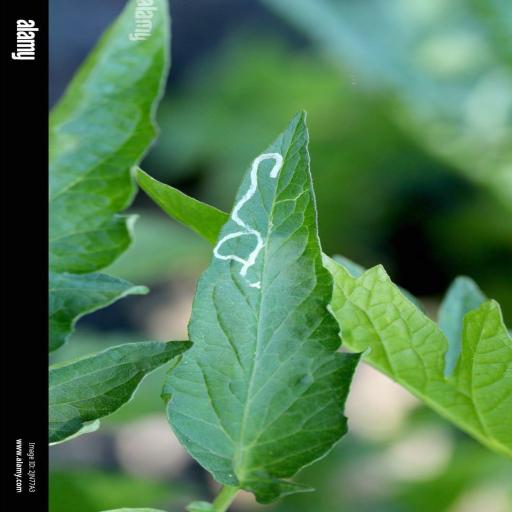disease_tomato: (160, 111, 364, 502)
